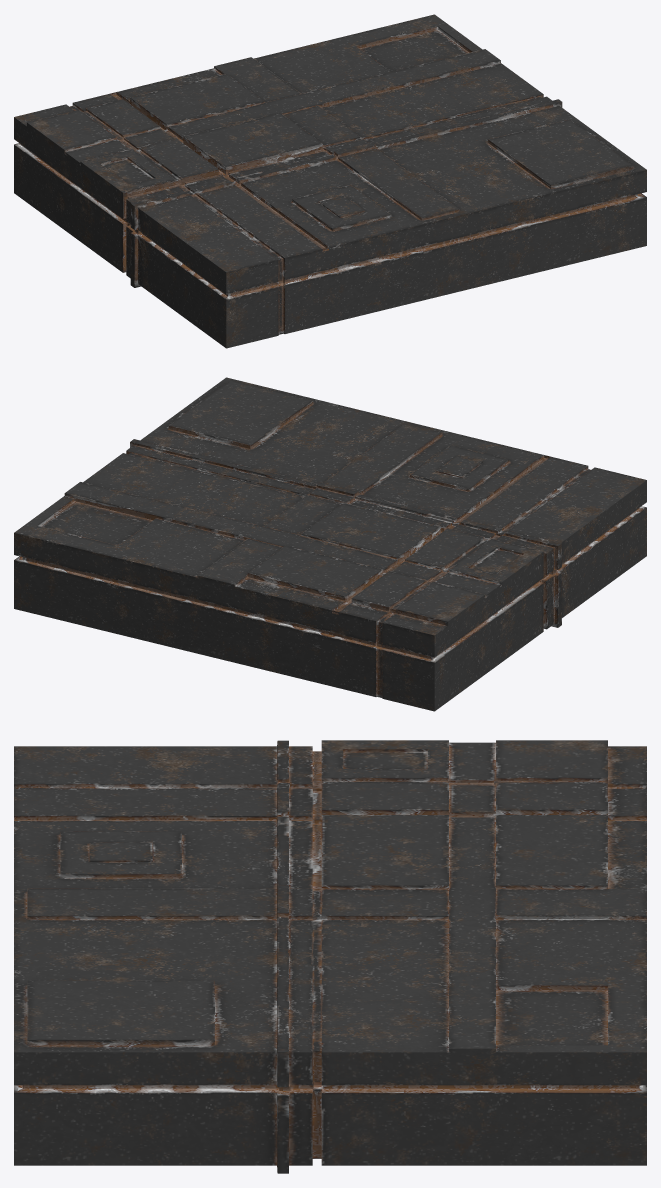
Rendered from obstacle_Surface.fbx.
3 views of the same model, one above another, from view 1: azimuth 30°, elevation 25°; view 2: azimuth 150°, elevation 25°; view 3: azimuth 270°, elevation 25° (orthographic). The views are drawn at different scales.
Visible parts, largest first — view 1: Obstacle_wall; view 2: Obstacle_wall; view 3: Obstacle_wall.
Part boxes in pixels (box(x1,y1,x2,y2)): Obstacle_wall: box(14, 14, 646, 348); Obstacle_wall: box(14, 377, 646, 711); Obstacle_wall: box(14, 740, 646, 1173).
Bounding box in the file's own units: 1760 × 332 × 1513.
